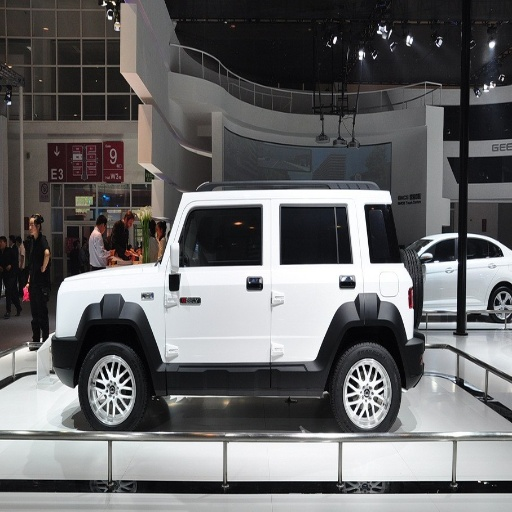back_left_door: (270, 204, 363, 382)
trunk: (64, 269, 161, 339), (368, 267, 413, 348)
